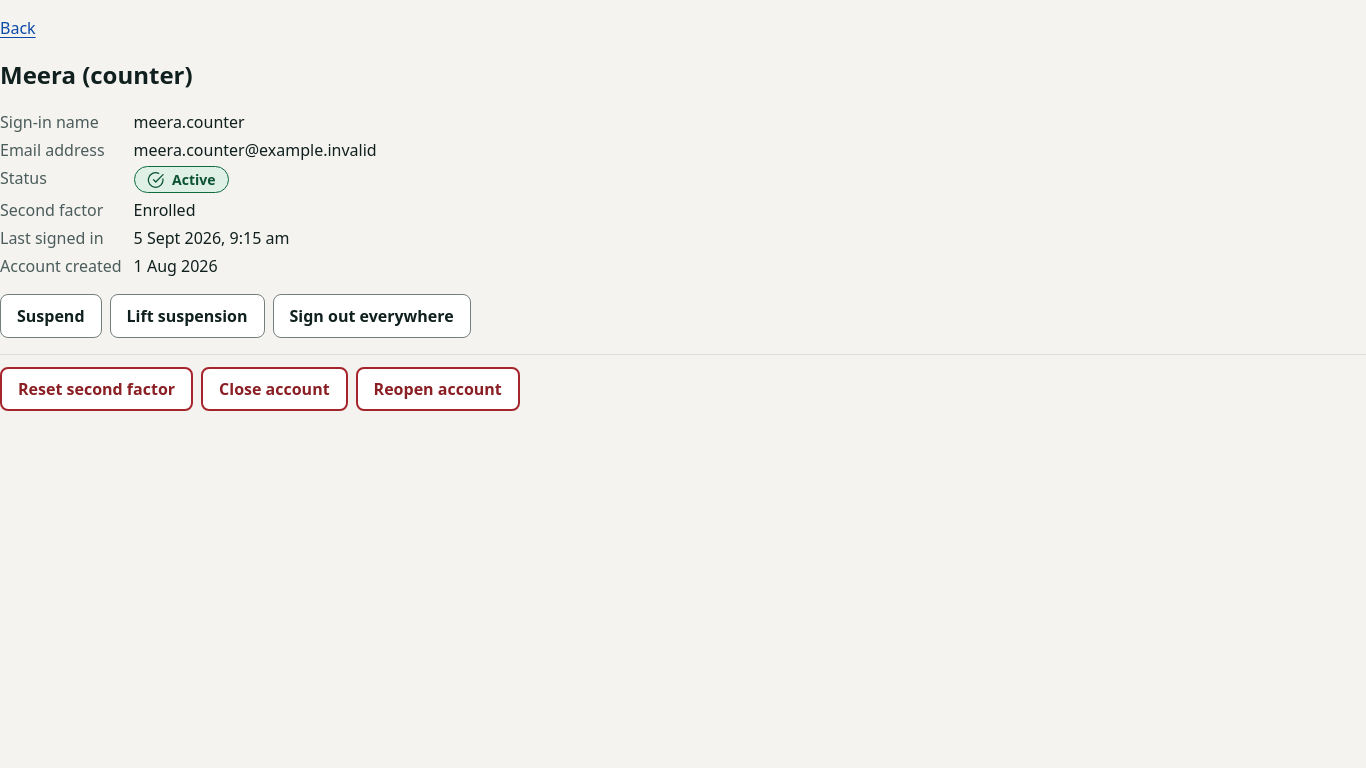
Test: sends the reason and the version it read, and reads the account again afterwards
The width and height of the screenshot is (1366, 768).
Expected: the heading "Meera (counter)" is shown, [0, 58, 193, 91]
Click the button "Suspend": x=51, y=316 [0, 294, 102, 338]
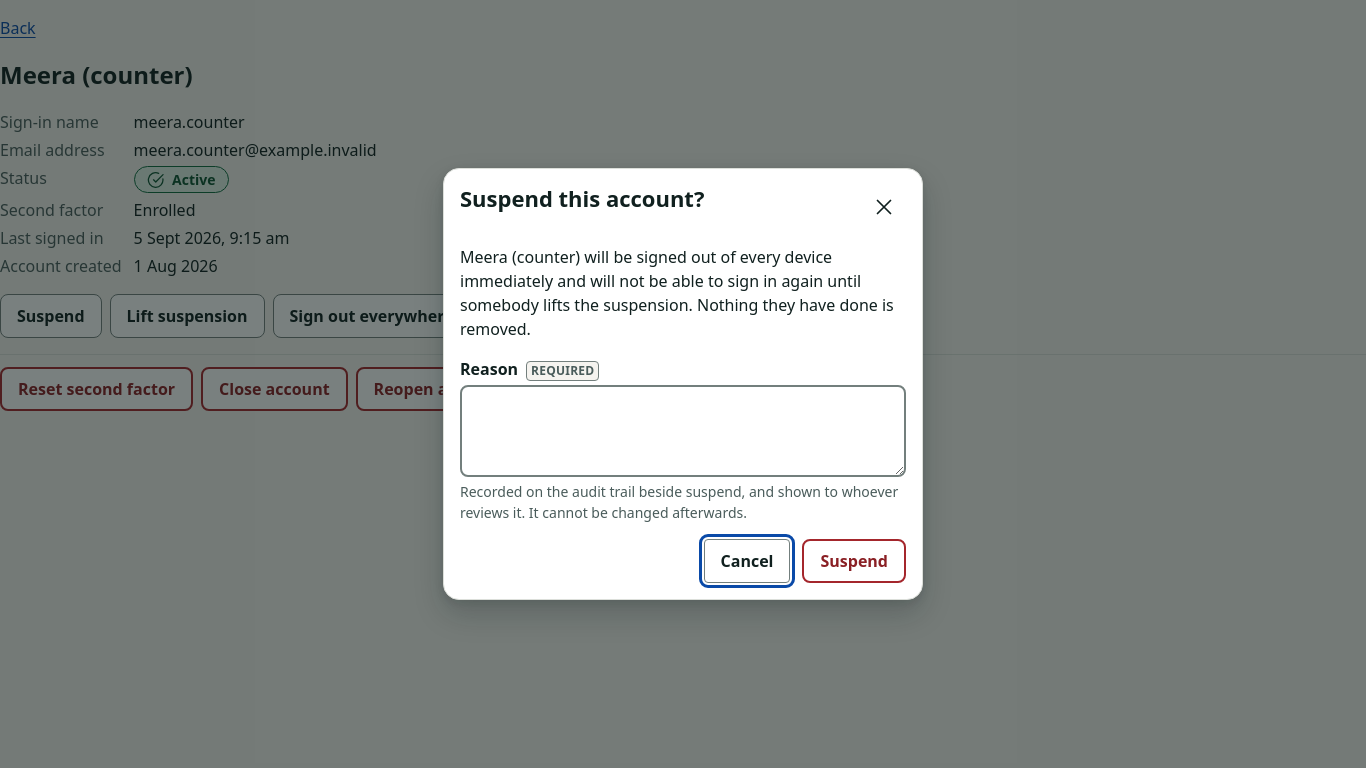
In the text box: x=683, y=431 [460, 385, 906, 477], type "Left the company on 5 September."
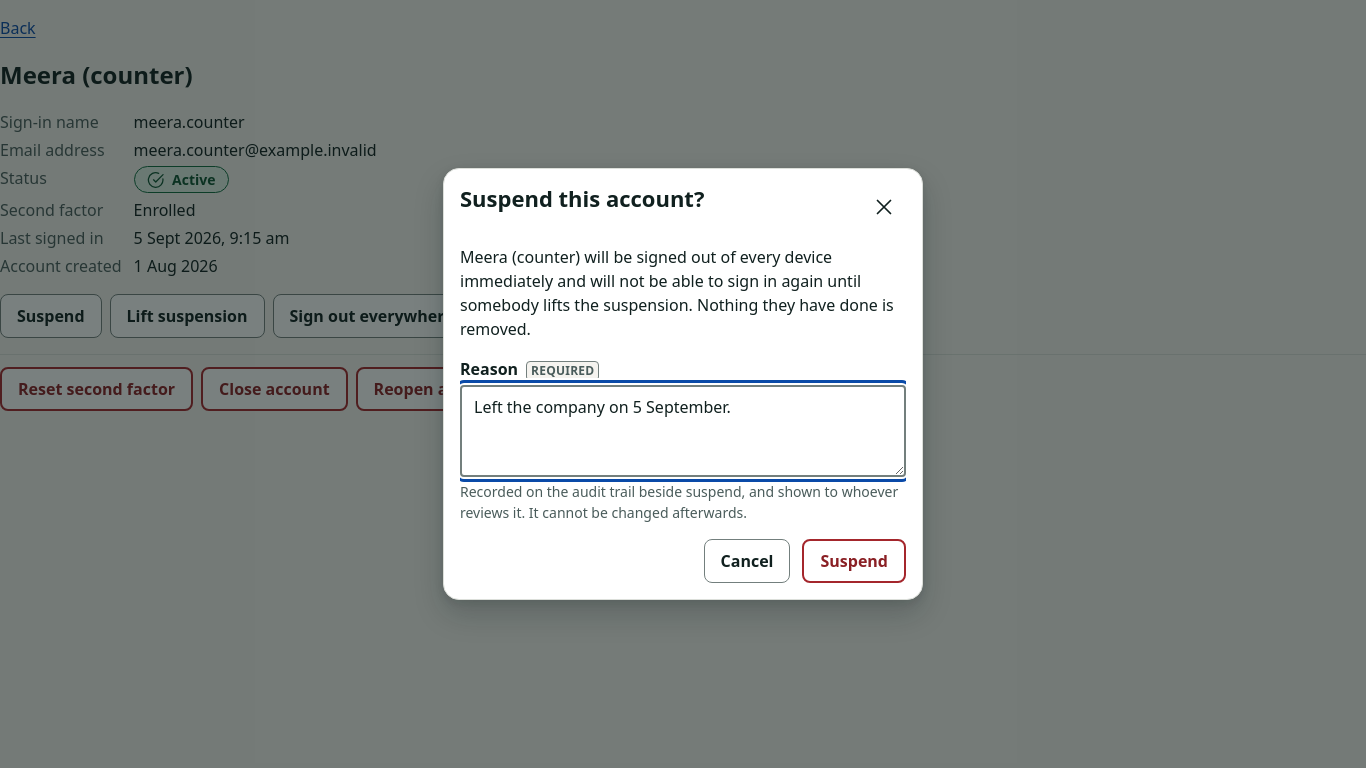
Click the button "Suspend": x=854, y=561 [802, 539, 906, 583]
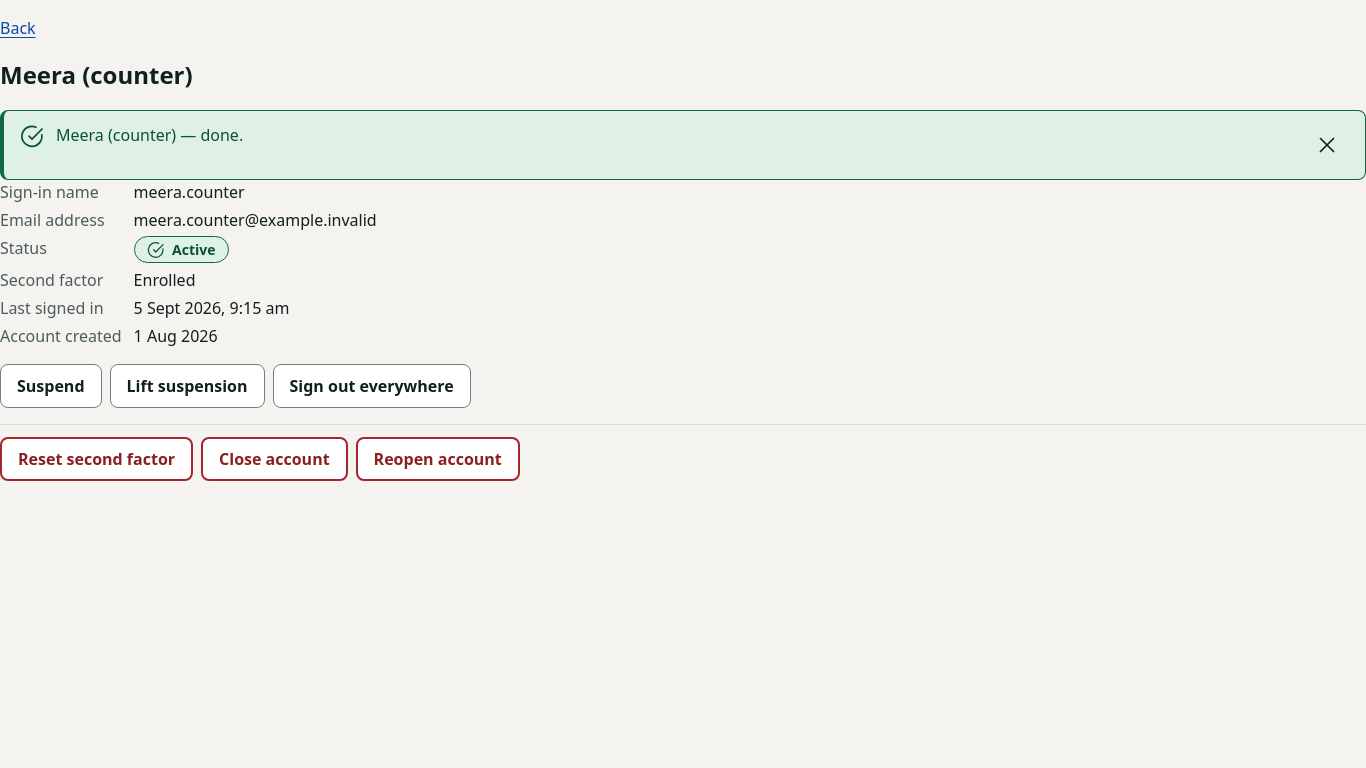
Expected: the text "Meera (counter) — done." is shown, [56, 124, 243, 146]
